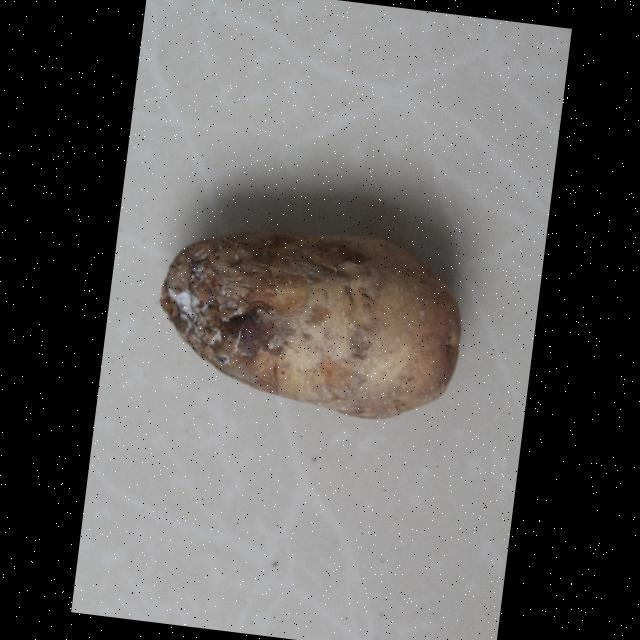Diseased-fungal potato: (165, 206, 494, 440)
